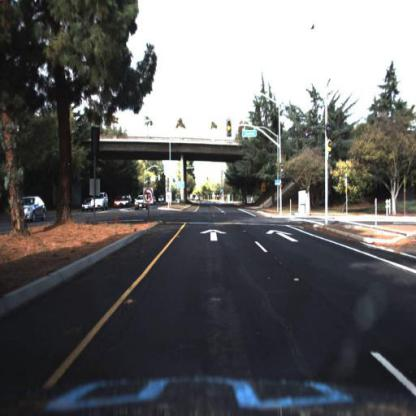car: (17, 195, 48, 224), (88, 190, 111, 210), (92, 192, 108, 214), (79, 194, 94, 210), (119, 193, 129, 213), (136, 194, 148, 208), (120, 194, 132, 206), (80, 198, 90, 211), (156, 193, 165, 206)
trafficLight-Yellow: (326, 139, 334, 156), (279, 160, 285, 177), (226, 119, 231, 139), (326, 140, 331, 156)
